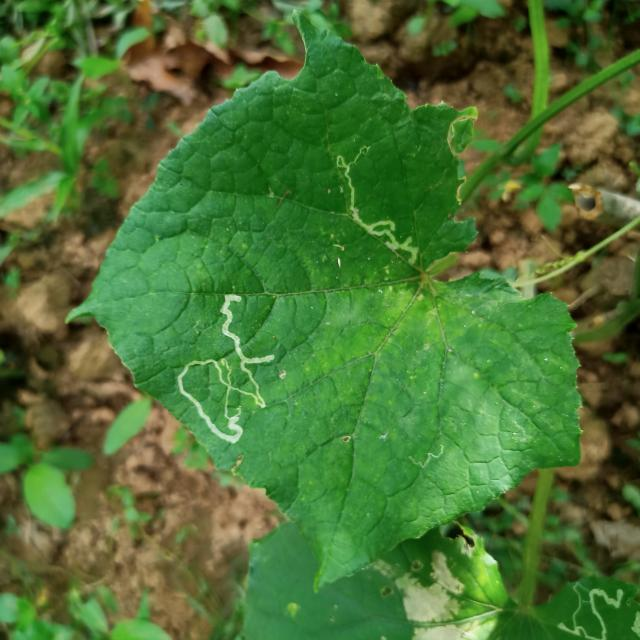disease_cucumber: (368, 548, 492, 638)
